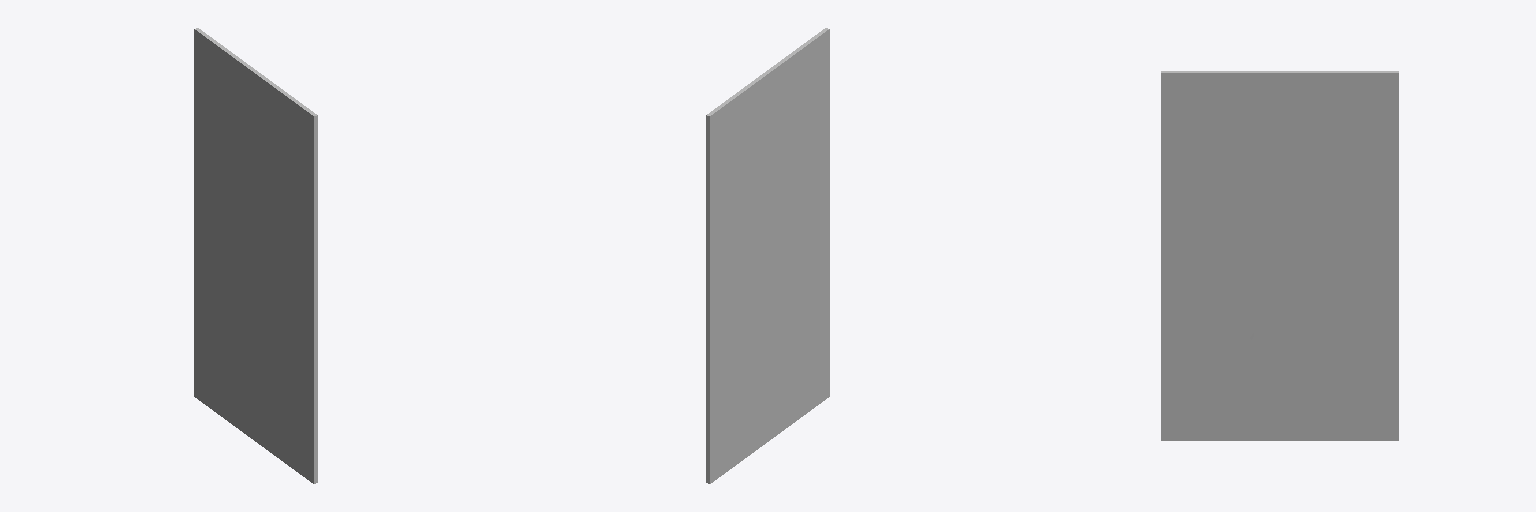
3 renders of one model, left to right at view 1: azimuth 30°, elevation 25°; view 2: azimuth 150°, elevation 25°; view 3: azimuth 270°, elevation 25°, orthographic.
Parts seen in each view (by area): view 1: back10_zoetrope.515; view 2: back10_zoetrope.515; view 3: back10_zoetrope.515.
Part boxes in pixels (x1,y1,x2,y2): back10_zoetrope.515: (194, 28, 317, 483); back10_zoetrope.515: (706, 28, 829, 483); back10_zoetrope.515: (1161, 71, 1398, 440).
Size of the model in its own units: 0.0109 by 0.9246 by 0.5439.